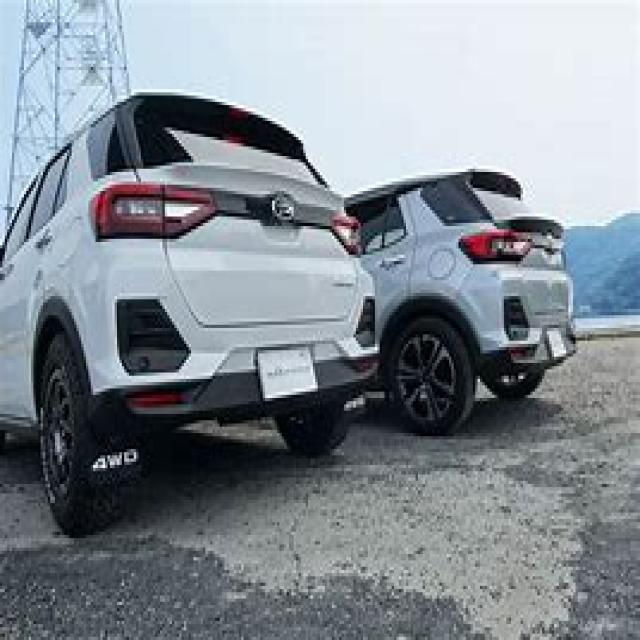PeroduaAtiva: (0, 89, 380, 535)
